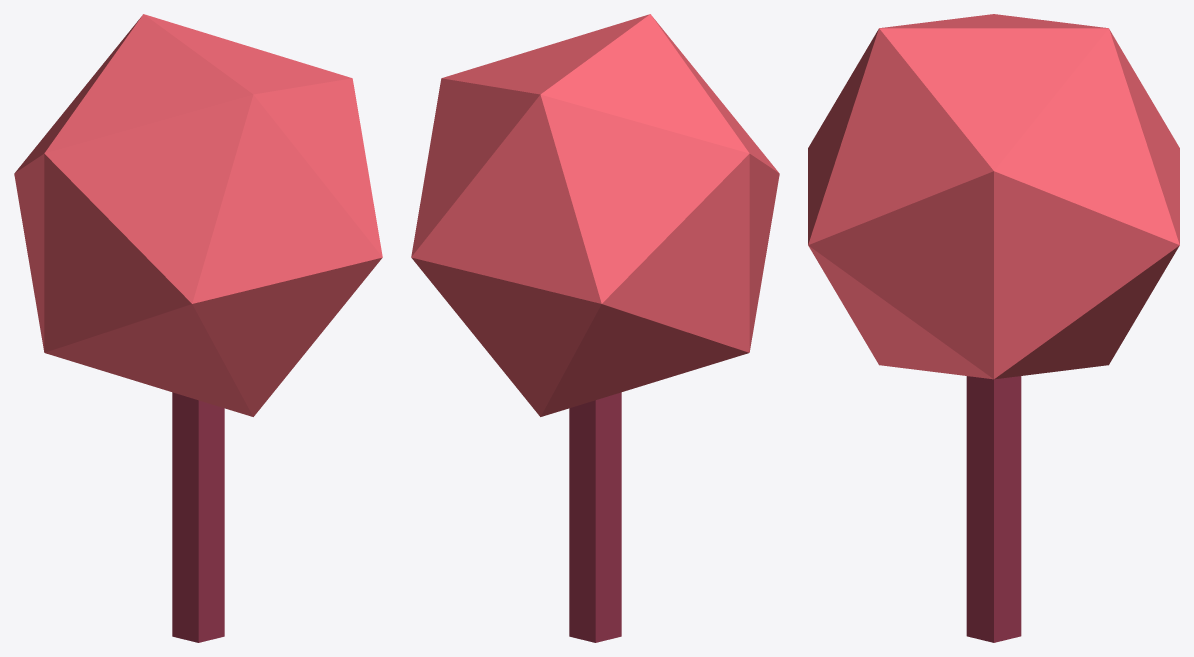
Rendered from tree.glb.
The picture shows the model from 3 angles, left to right: view 1: azimuth 30°, elevation 25°; view 2: azimuth 150°, elevation 25°; view 3: azimuth 270°, elevation 25°; orthographic projection. The views are drawn at different scales.
Parts seen in each view (by area): view 1: Crown, Trunk; view 2: Crown, Trunk; view 3: Crown, Trunk.
Part boxes in pixels (x1,y1,x2,y2): Crown: [14, 14, 382, 416]; Trunk: [172, 392, 224, 642]; Crown: [411, 14, 779, 416]; Trunk: [569, 392, 621, 642]; Crown: [808, 14, 1179, 379]; Trunk: [966, 376, 1021, 642].
Bounding box in the file's own units: 1.05 × 1.88 × 1.05.
